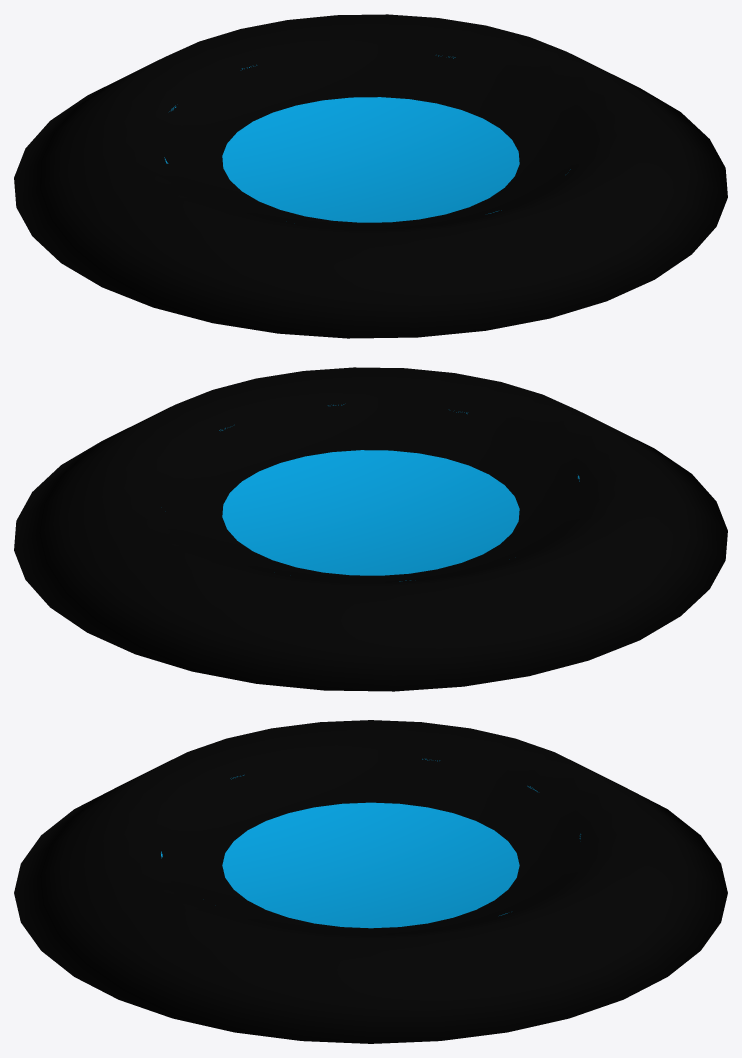
The model's file is ConsumableSpawn.fbx.
The picture shows the model from 3 angles, top to bottom: view 1: azimuth 30°, elevation 25°; view 2: azimuth 150°, elevation 25°; view 3: azimuth 270°, elevation 25°; orthographic projection.
Visible parts, largest first — view 1: ConsumableSpawn; view 2: ConsumableSpawn; view 3: ConsumableSpawn.
Boxes of the visible parts, bbox=[...] form: ConsumableSpawn: bbox=[14, 14, 727, 338]; ConsumableSpawn: bbox=[14, 367, 727, 691]; ConsumableSpawn: bbox=[14, 720, 727, 1043].
Bounding box in the file's own units: 200 × 19.51 × 200.
